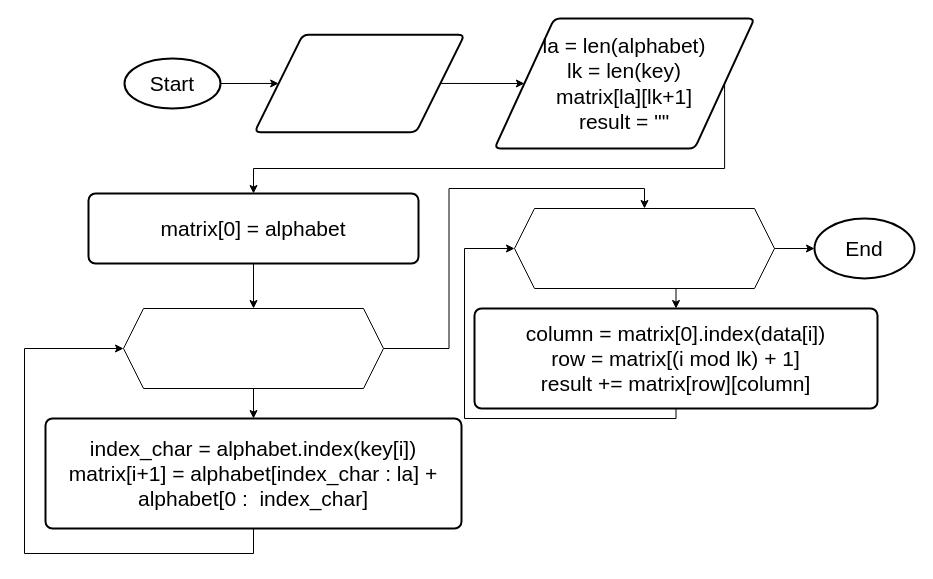
Some shapes in this 933 by 579 pixel diagram are drawn without their labels. The box of each missing label's shape, as (x1, y1, x2, y2) in pixels:
data alphabet key: (253, 33, 465, 133)
i = 0; i < len(data); i++: (514, 208, 774, 288)
i = 0; i < lk; i++: (122, 308, 384, 388)
